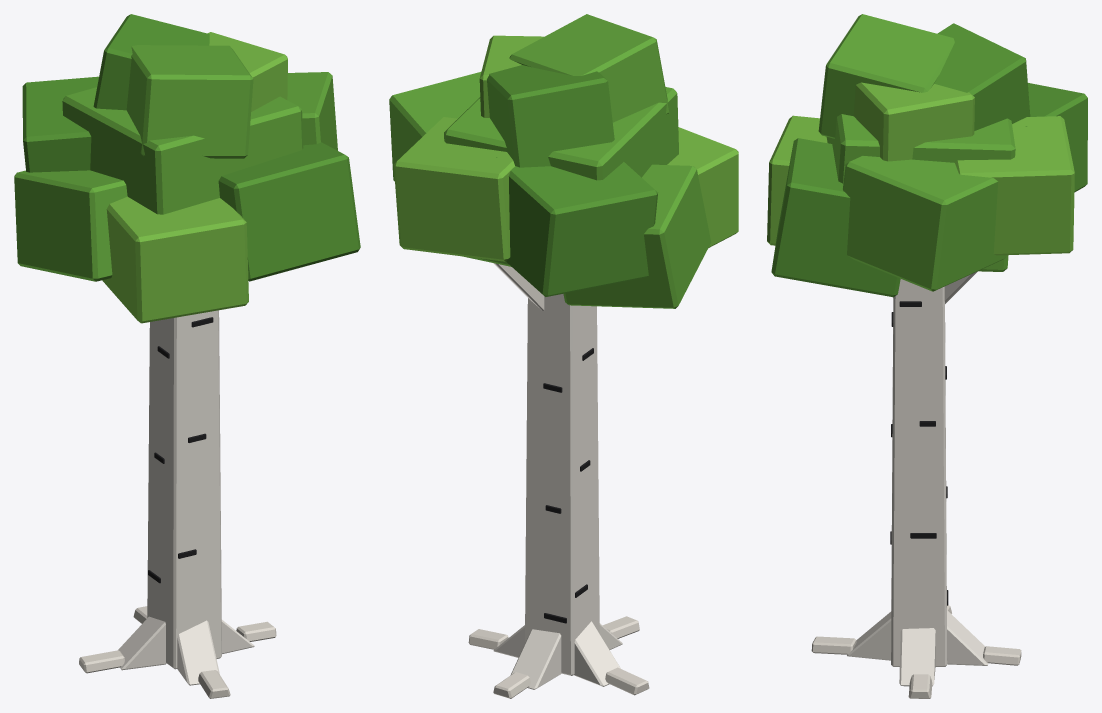
The model's file is birch.glb.
3 views of the same model, side by side, from view 1: azimuth 30°, elevation 25°; view 2: azimuth 150°, elevation 25°; view 3: azimuth 270°, elevation 25° (orthographic).
Visible parts, largest first — view 1: Grass__62A83A, Wood__E8E4DC, Grass__549632, Grass__74B842, Wood__DAD5CC, SmoothPlastic__1C1C1E; view 2: Wood__E8E4DC, Grass__62A83A, Grass__549632, Grass__74B842, Wood__DAD5CC, SmoothPlastic__1C1C1E; view 3: Grass__62A83A, Wood__E8E4DC, Grass__74B842, Grass__549632, Wood__DAD5CC, SmoothPlastic__1C1C1E.
Boxes of the visible parts, box(x1,y1,x2,y2) form: Grass__62A83A: box(14, 45, 337, 281); Wood__E8E4DC: box(118, 310, 254, 685); Grass__549632: box(22, 14, 360, 281); Grass__74B842: box(102, 32, 287, 323); Wood__DAD5CC: box(79, 606, 276, 698); SmoothPlastic__1C1C1E: box(148, 317, 213, 583); Wood__E8E4DC: box(493, 263, 622, 689); Grass__62A83A: box(389, 14, 711, 308); Grass__549632: box(487, 65, 657, 296); Grass__74B842: box(393, 35, 738, 261); Wood__DAD5CC: box(468, 616, 649, 698); SmoothPlastic__1C1C1E: box(543, 348, 593, 623); Grass__62A83A: box(818, 14, 1015, 291); Wood__E8E4DC: box(847, 271, 988, 686); Grass__74B842: box(767, 82, 1074, 255); Grass__549632: box(771, 23, 1087, 297); Wood__DAD5CC: box(811, 605, 1021, 698); SmoothPlastic__1C1C1E: box(890, 301, 948, 605).
Bounding box in the file's own units: 19.74 × 38.57 × 18.3.
